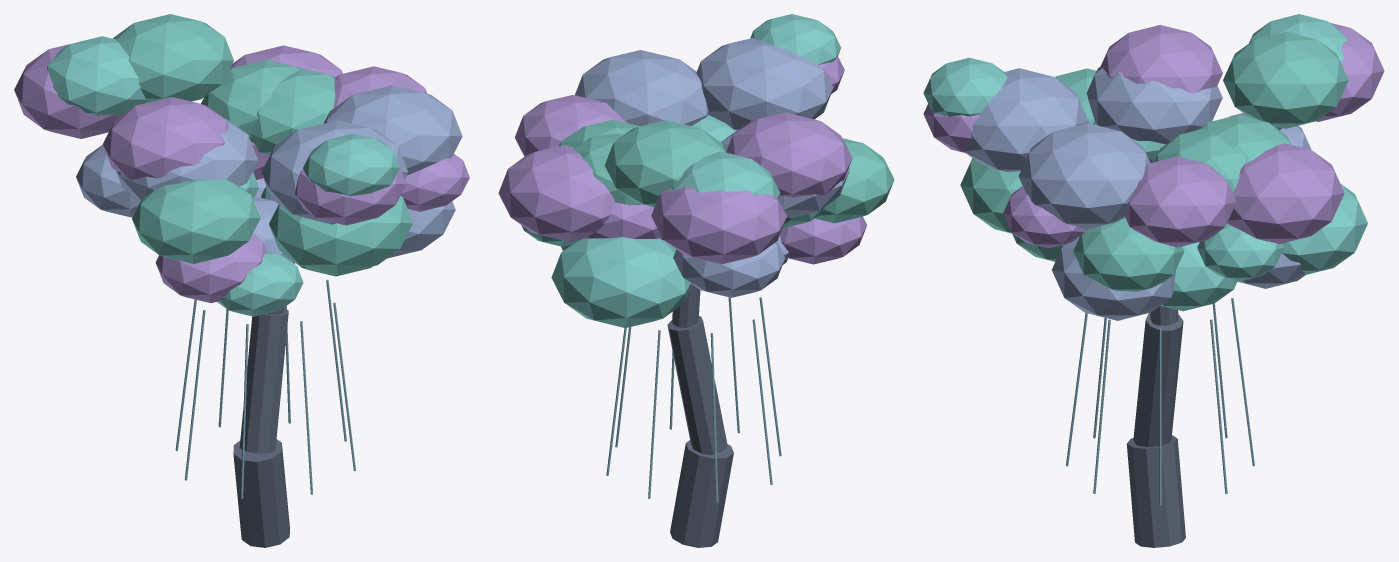
Rendered from hexcore_living_tree_01.glb.
3 views of the same model, side by side, from view 1: azimuth 30°, elevation 25°; view 2: azimuth 150°, elevation 25°; view 3: azimuth 270°, elevation 25° (orthographic). The views are drawn at different scales.
Visible parts, largest first — view 1: world; view 2: world; view 3: world.
Boxes of the visible parts, x1,y1,x2,y2 form: world: (14, 14, 469, 547); world: (498, 14, 894, 547); world: (923, 14, 1384, 547).
Bounding box in the file's own units: 19.21 × 26.06 × 22.47.
